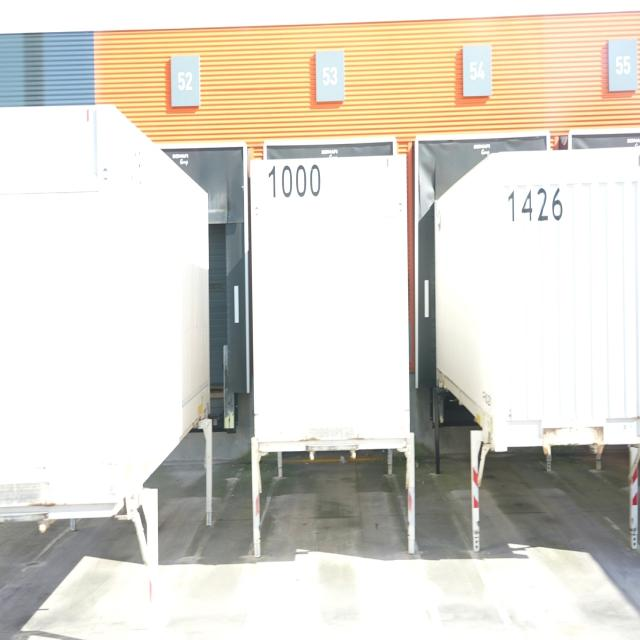Code: (505, 180, 567, 231), (266, 159, 324, 202)
